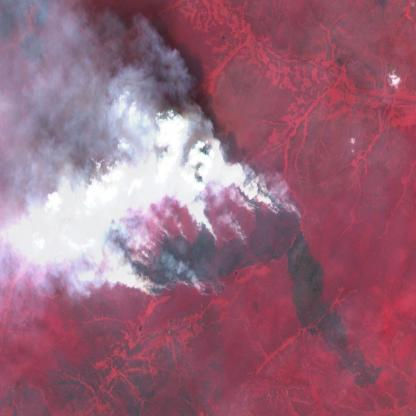fire: (126, 190, 307, 303)
